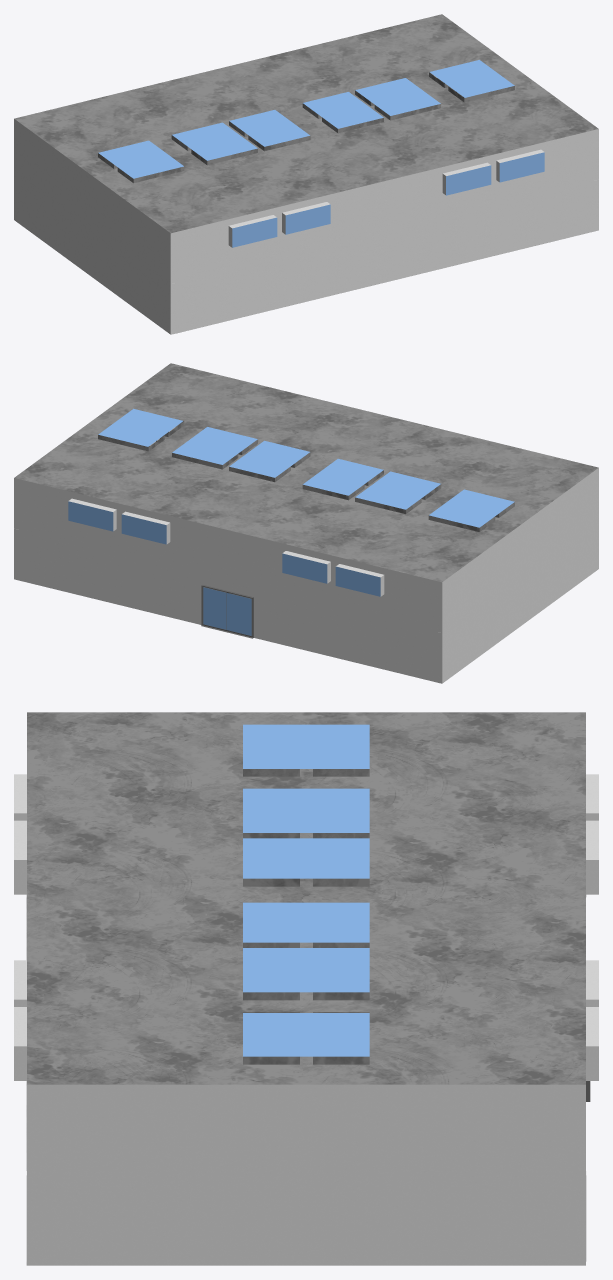
File: gallery 03 model.gltf
3 views of the same model, one above another, from view 1: azimuth 30°, elevation 25°; view 2: azimuth 150°, elevation 25°; view 3: azimuth 270°, elevation 25° (orthographic). The views are drawn at different scales.
Parts seen in each view (by area): view 1: walls1, cieling1, Glass_10, Glass_11, Glass_14, Glass_15, Glass_12, Glass_13, Glass_06, Glass_07, Glass_09, Glass_08; view 2: cieling1, walls1, Glass_01, Glass_10, Glass_11, Glass_14, Glass_15, Glass_12, Glass_13, Glass_02, Glass_03, Glass_04 (+2 smaller); view 3: cieling1, walls1, Glass_10, Glass_11, Glass_14, Glass_15, Glass_12, Glass_13.
Boxes of the visible parts, x1=… form: walls1: x1=14, y1=75, x2=598, y2=334; cieling1: x1=14, y1=14, x2=598, y2=233; Glass_10: x1=98, y1=140, x2=183, y2=178; Glass_11: x1=172, y1=122, x2=257, y2=160; Glass_14: x1=355, y1=78, x2=440, y2=115; Glass_15: x1=430, y1=60, x2=514, y2=97; Glass_12: x1=229, y1=110, x2=309, y2=146; Glass_13: x1=303, y1=92, x2=383, y2=128; Glass_06: x1=499, y1=152, x2=544, y2=182; Glass_07: x1=446, y1=165, x2=491, y2=195; Glass_09: x1=285, y1=204, x2=330, y2=234; Glass_08: x1=232, y1=217, x2=277, y2=247; cieling1: x1=14, y1=363, x2=598, y2=582; walls1: x1=14, y1=424, x2=598, y2=683; Glass_01: x1=203, y1=587, x2=251, y2=635; Glass_10: x1=429, y1=489, x2=514, y2=527; Glass_11: x1=355, y1=471, x2=440, y2=509; Glass_14: x1=172, y1=427, x2=257, y2=464; Glass_15: x1=98, y1=408, x2=182, y2=446; Glass_12: x1=303, y1=458, x2=383, y2=495; Glass_13: x1=229, y1=440, x2=309, y2=477; Glass_02: x1=121, y1=514, x2=166, y2=544; Glass_03: x1=68, y1=501, x2=113, y2=531; Glass_04: x1=282, y1=553, x2=327, y2=583; cieling1: x1=27, y1=712, x2=585, y2=1084; walls1: x1=14, y1=774, x2=598, y2=1265; Glass_10: x1=243, y1=724, x2=369, y2=768; Glass_11: x1=243, y1=788, x2=369, y2=832; Glass_14: x1=243, y1=948, x2=369, y2=992; Glass_15: x1=243, y1=1013, x2=369, y2=1056; Glass_12: x1=243, y1=838, x2=369, y2=878; Glass_13: x1=243, y1=902, x2=369, y2=942.
Bounding box in the file's own units: 26.92 × 6.36 × 17.86.
3 materials, 3 textured.
